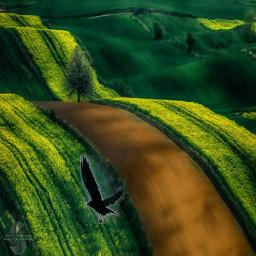Crow: (80, 155, 126, 224)
